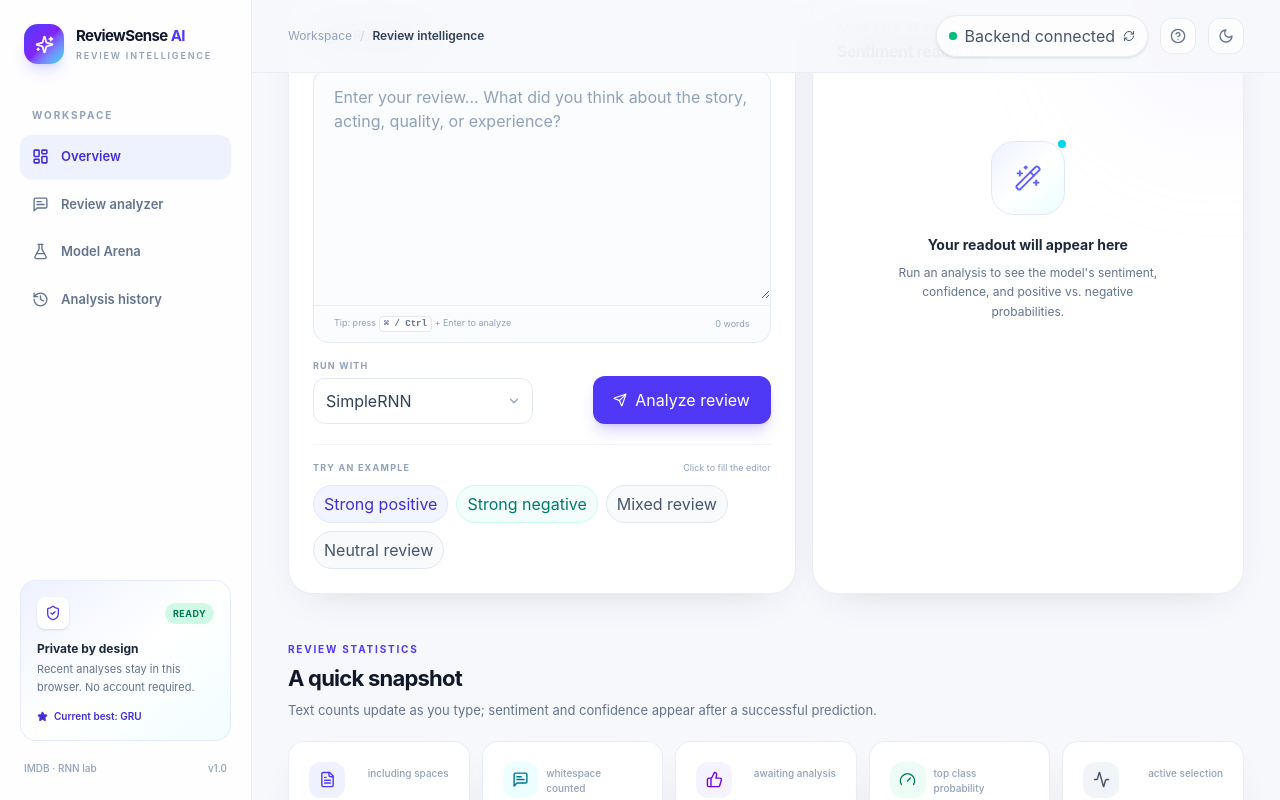
ReviewSense dashboard › requires non-empty review text
(page scrolled)
Check: the text "Backend connected" is shown, box [965,24,1115,48]
Click the button "Analyze review" at (682, 400), box [593,376,771,424]
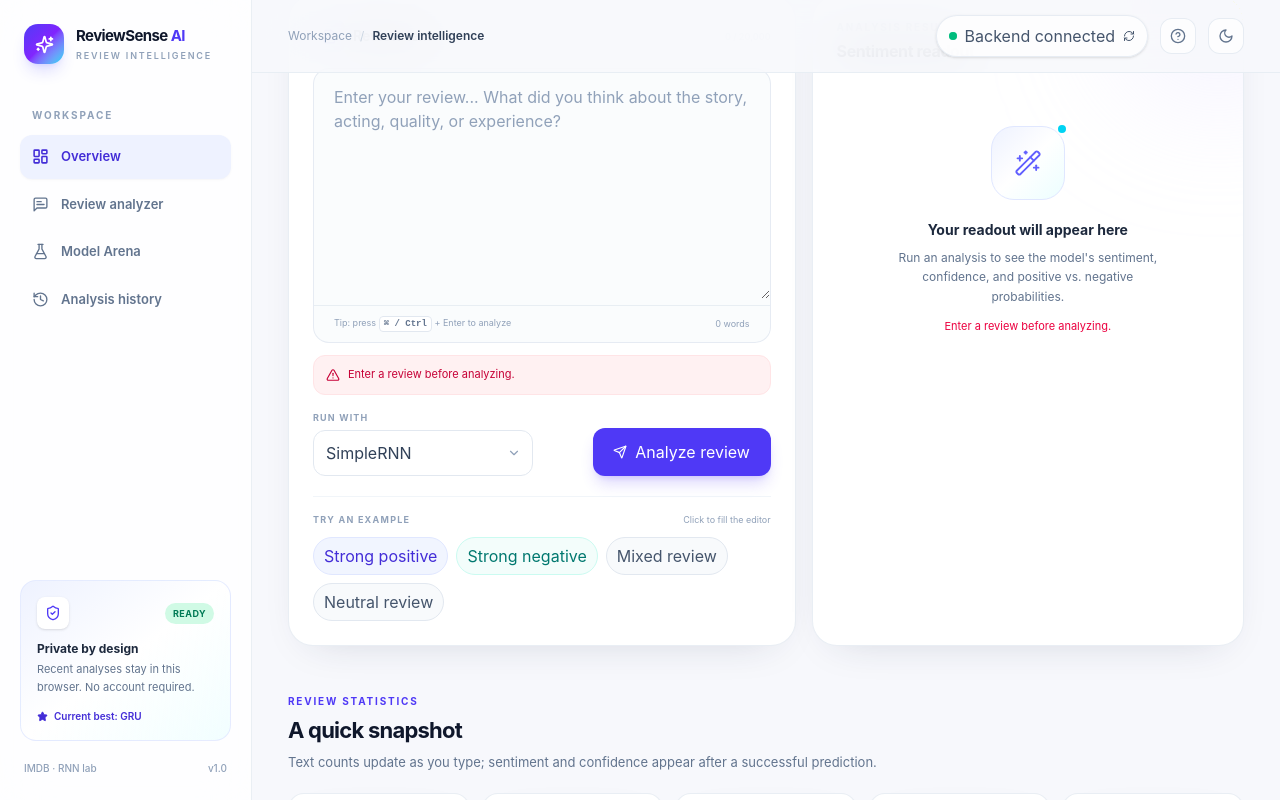
Check: the text "Enter a review before analyzing." below "⌘ / Ctrl" is shown, box [348,367,515,381]
